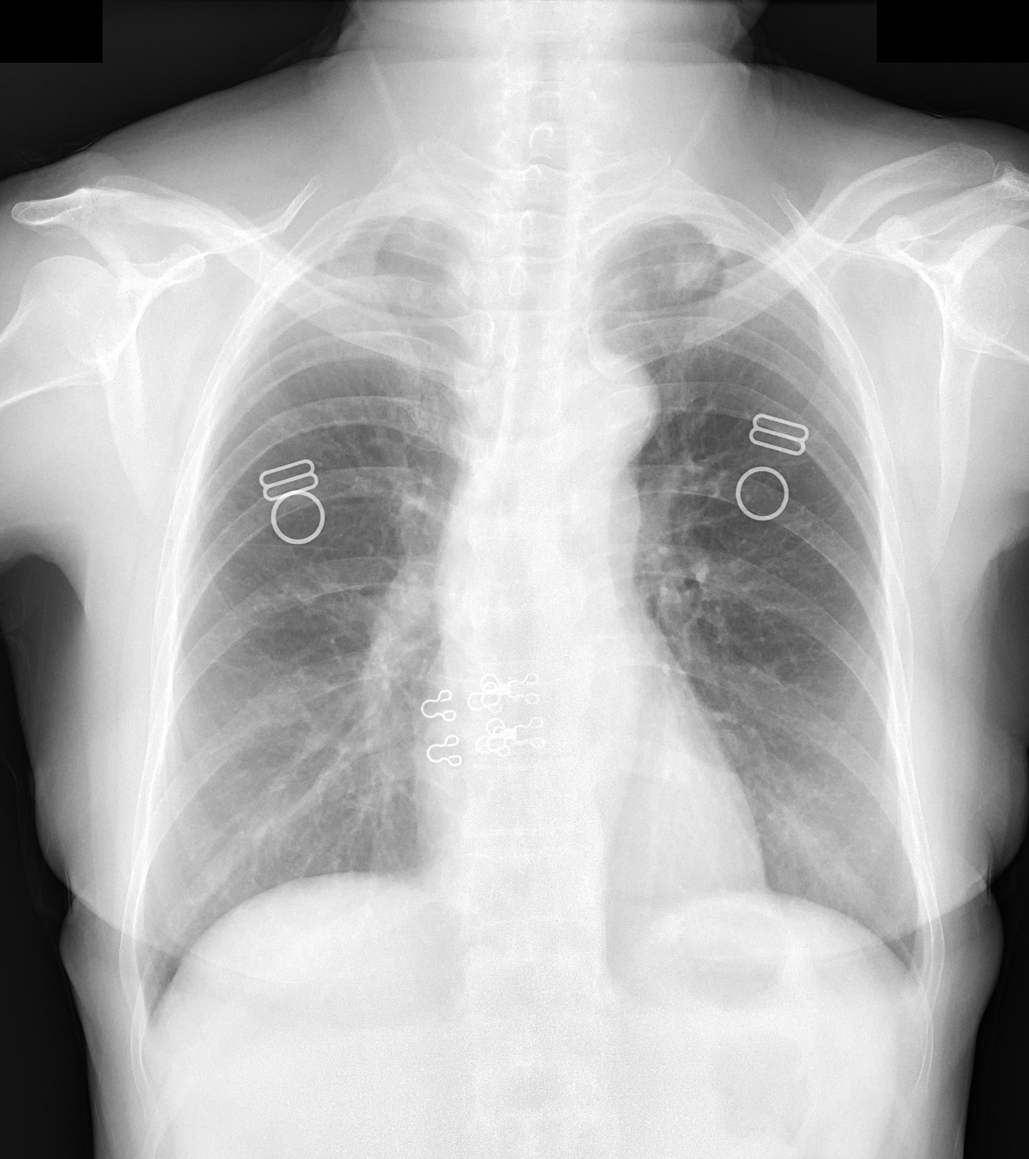Pulmonary fibrosis: (603, 232, 737, 371)
